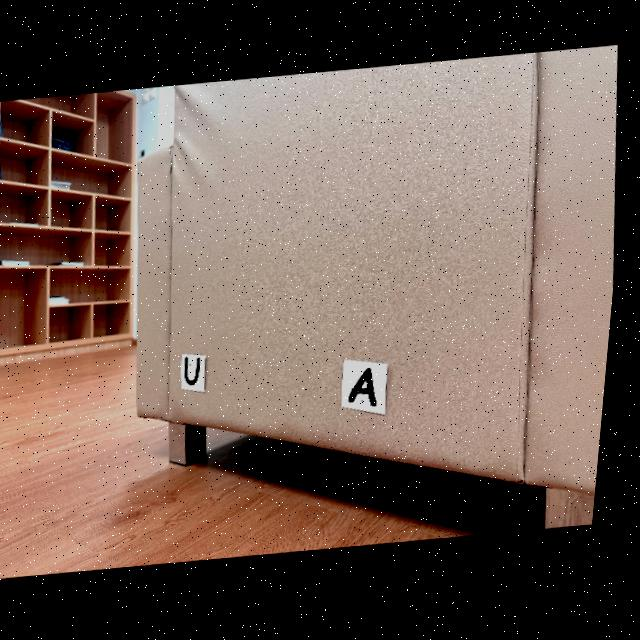A: (356, 369, 385, 408)
U: (192, 358, 207, 387)
